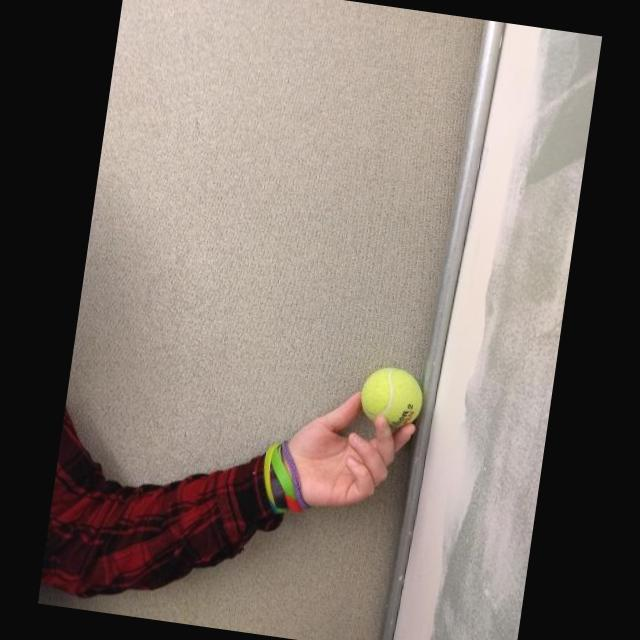tennis-ball: (355, 362, 427, 436)
